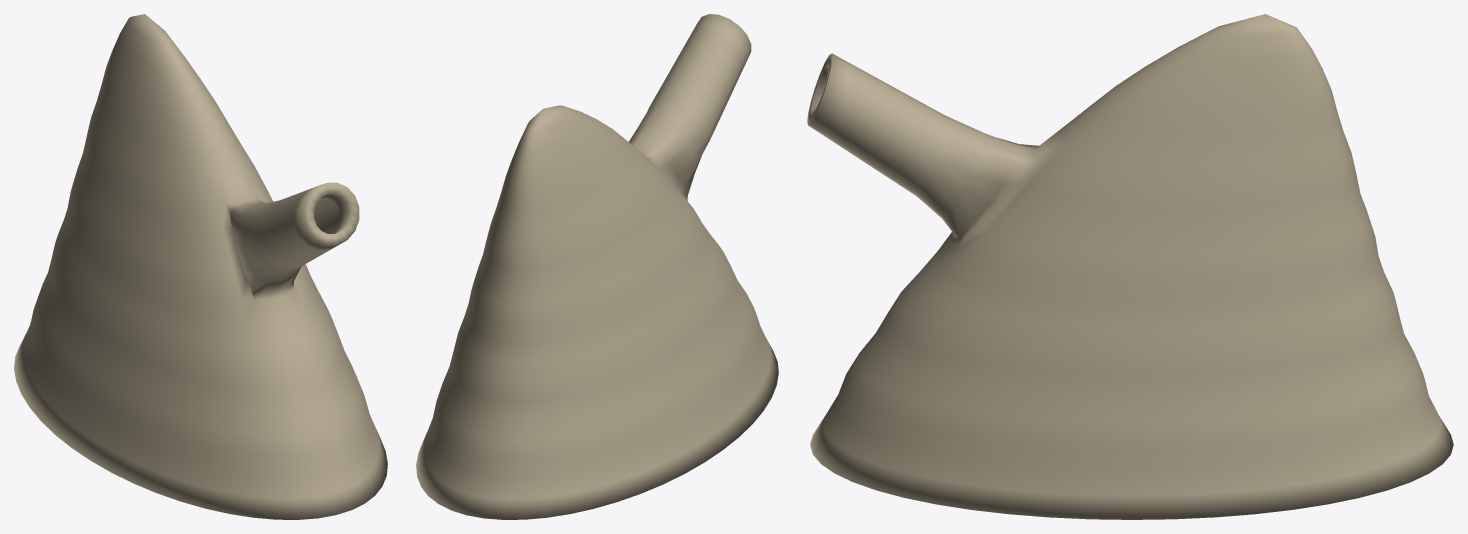
The model's file is yochelcionella.glb.
3 views of the same model, side by side, from view 1: azimuth 30°, elevation 25°; view 2: azimuth 150°, elevation 25°; view 3: azimuth 270°, elevation 25° (orthographic). The views are drawn at different scales.
Visible parts, largest first — view 1: single-continuous-compressed-curved-cap-and-subapical-open-t; view 2: single-continuous-compressed-curved-cap-and-subapical-open-t; view 3: single-continuous-compressed-curved-cap-and-subapical-open-t.
Part boxes in pixels (bbox=[...]): single-continuous-compressed-curved-cap-and-subapical-open-t: bbox=[14, 14, 387, 519]; single-continuous-compressed-curved-cap-and-subapical-open-t: bbox=[416, 14, 778, 519]; single-continuous-compressed-curved-cap-and-subapical-open-t: bbox=[807, 14, 1453, 519].
Size of the model in its own units: 0.0121 by 0.0162 by 0.022.
